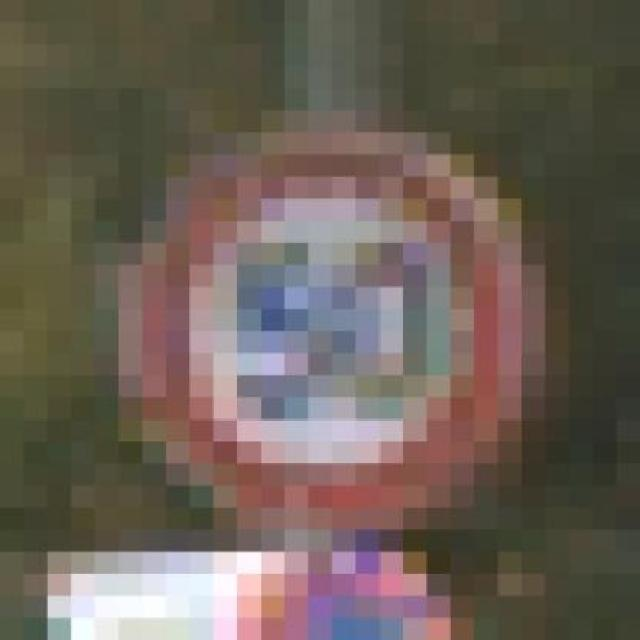forb_speed_over_50: (126, 143, 517, 520)
